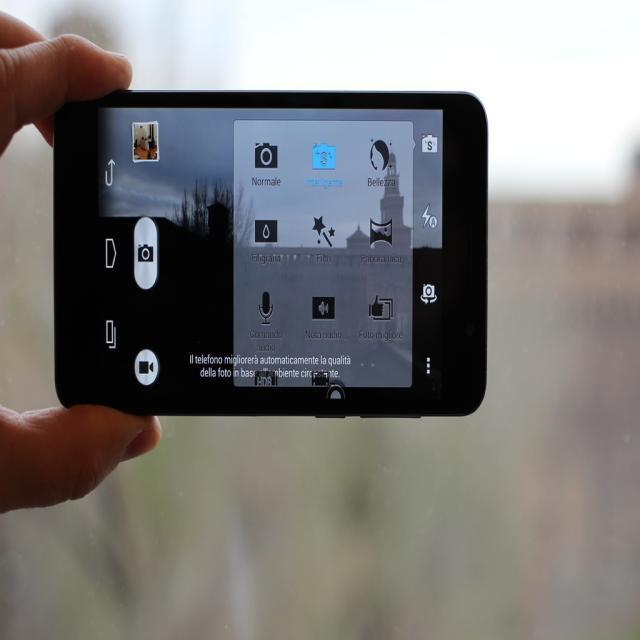Phone: (48, 85, 490, 421)
